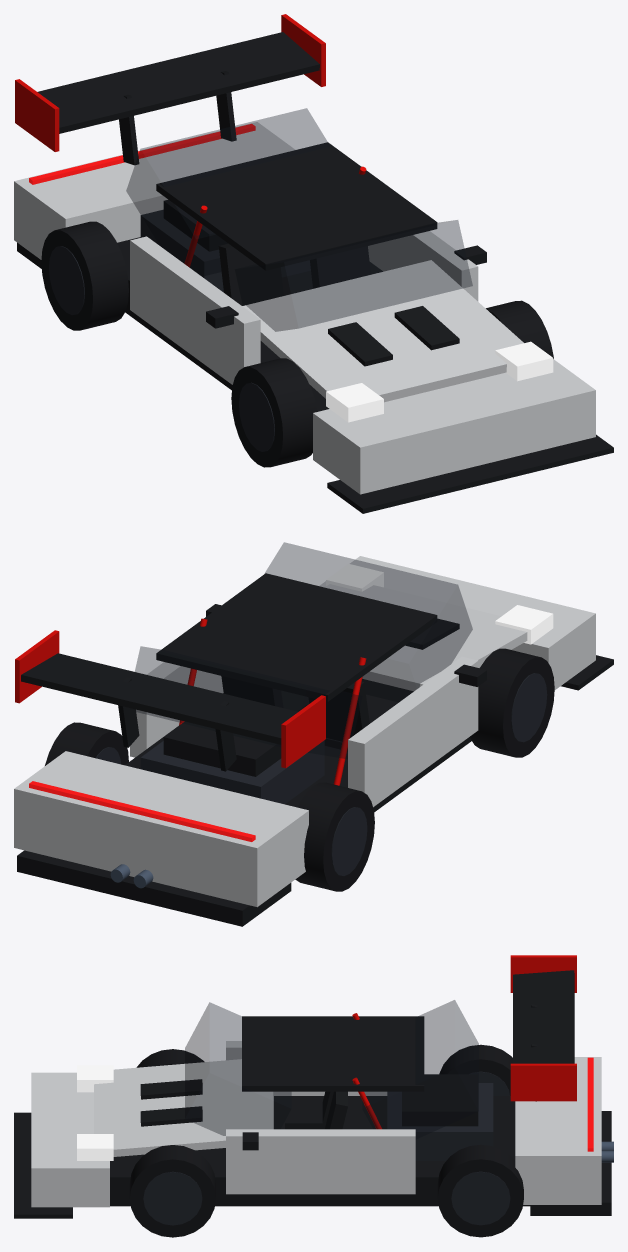
3 renders of one model, top to bottom at view 1: azimuth 30°, elevation 25°; view 2: azimuth 150°, elevation 25°; view 3: azimuth 270°, elevation 25°, orthographic. The views are drawn at different scales.
Visible parts, largest first — view 1: Front_Bumper_Fascia, Hood_Panel, Carbon_Roof, Windshield, Rear_Bumper_Fascia, Rear_Window, Main_Wing, Door_Panel_Left, Wheel_RL, Wheel_FL, Front_Carbon_Splitter, Interior_Cockpit (+14 smaller); view 2: Rear_Bumper_Fascia, Carbon_Roof, Windshield, Door_Panel_Left, Main_Wing, Front_Bumper_Fascia, Rear_Window, Wheel_FL, Hood_Panel, Wheel_RL, Rear_Diffuser, Flat6_Powertrain (+15 smaller); view 3: Carbon_Roof, Door_Panel_Right, Hood_Panel, Rear_Bumper_Fascia, Rear_Window, Carbon_Tub, Front_Bumper_Fascia, Windshield, Wheel_FR, Wheel_RR, Main_Wing, Airbox (+14 smaller).
Part boxes in pixels (x1,y1,x2,y2): Front_Bumper_Fascia: (313, 359, 595, 494); Hood_Panel: (242, 260, 523, 402); Carbon_Roof: (156, 142, 437, 270); Windshield: (235, 220, 472, 331); Rear_Bumper_Fascia: (14, 122, 295, 259); Rear_Window: (126, 108, 329, 276); Main_Wing: (37, 32, 319, 133); Door_Panel_Left: (130, 236, 260, 384); Wheel_RL: (41, 221, 128, 330); Wheel_FL: (231, 358, 317, 467); Front_Carbon_Splitter: (327, 434, 613, 513); Interior_Cockpit: (184, 166, 370, 342); Rear_Bumper_Fascia: (14, 751, 308, 907); Carbon_Roof: (156, 573, 437, 701); Windshield: (264, 542, 472, 702); Door_Panel_Left: (348, 656, 478, 807); Main_Wing: (21, 653, 297, 744); Front_Bumper_Fascia: (319, 556, 595, 689); Rear_Window: (135, 646, 362, 758); Wheel_FL: (470, 648, 554, 757); Hood_Panel: (324, 584, 527, 691); Wheel_RL: (295, 782, 374, 891); Rear_Diffuser: (17, 850, 291, 926); Flat6_Powertrain: (140, 740, 324, 804); Carbon_Roof: (242, 1016, 424, 1091); Door_Panel_Right: (226, 1129, 415, 1194); Hood_Panel: (94, 1059, 273, 1156); Rear_Bumper_Fascia: (515, 1057, 601, 1204); Rear_Window: (362, 1000, 478, 1139); Carbon_Tub: (110, 1096, 530, 1206); Front_Bumper_Fascia: (31, 1072, 109, 1207); Windshield: (185, 1002, 291, 1135); Wheel_FR: (129, 1145, 215, 1237); Wheel_RR: (437, 1144, 523, 1237); Main_Wing: (513, 970, 574, 1063); Airbox: (402, 1074, 478, 1126).
Bounding box in the file's own units: 2.21 × 1.54 × 4.87.
